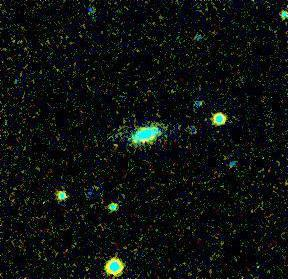star: (119, 128, 149, 158)
